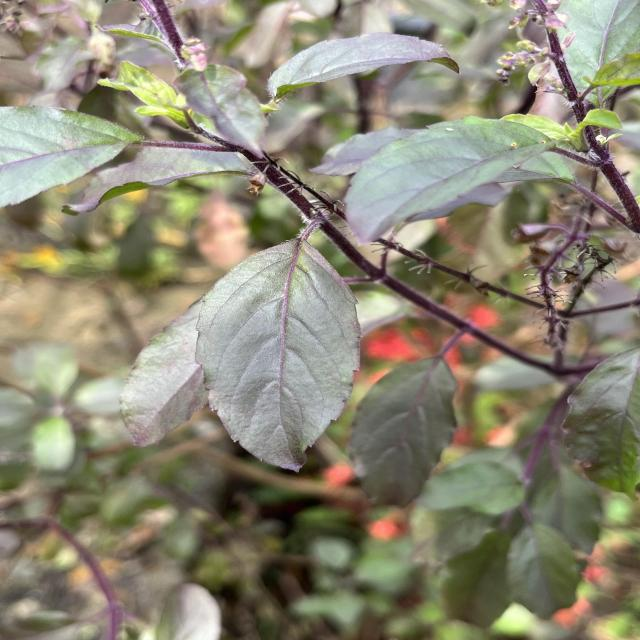Ocimum tenuiflorum: (193, 238, 364, 474)
